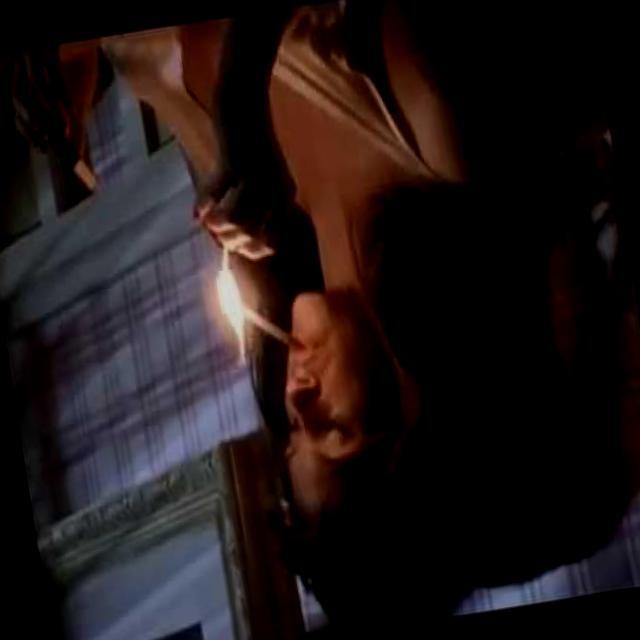cigarette: (222, 286, 307, 362)
